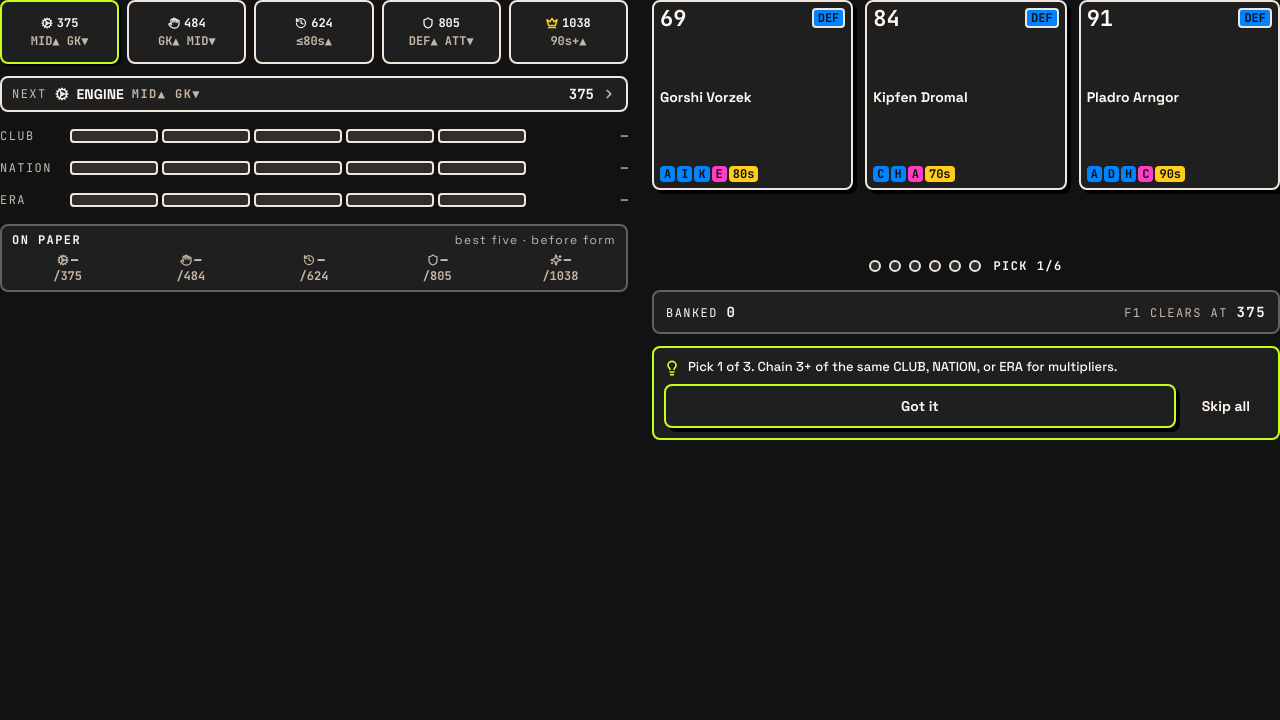
F1 — fixture effect derivation › the sheet badges the BOSS and the strip does not invent one
The image size is (1280, 720).
Click the button "1038 90s+▲".
click(568, 32)  # box [509,0,628,64]
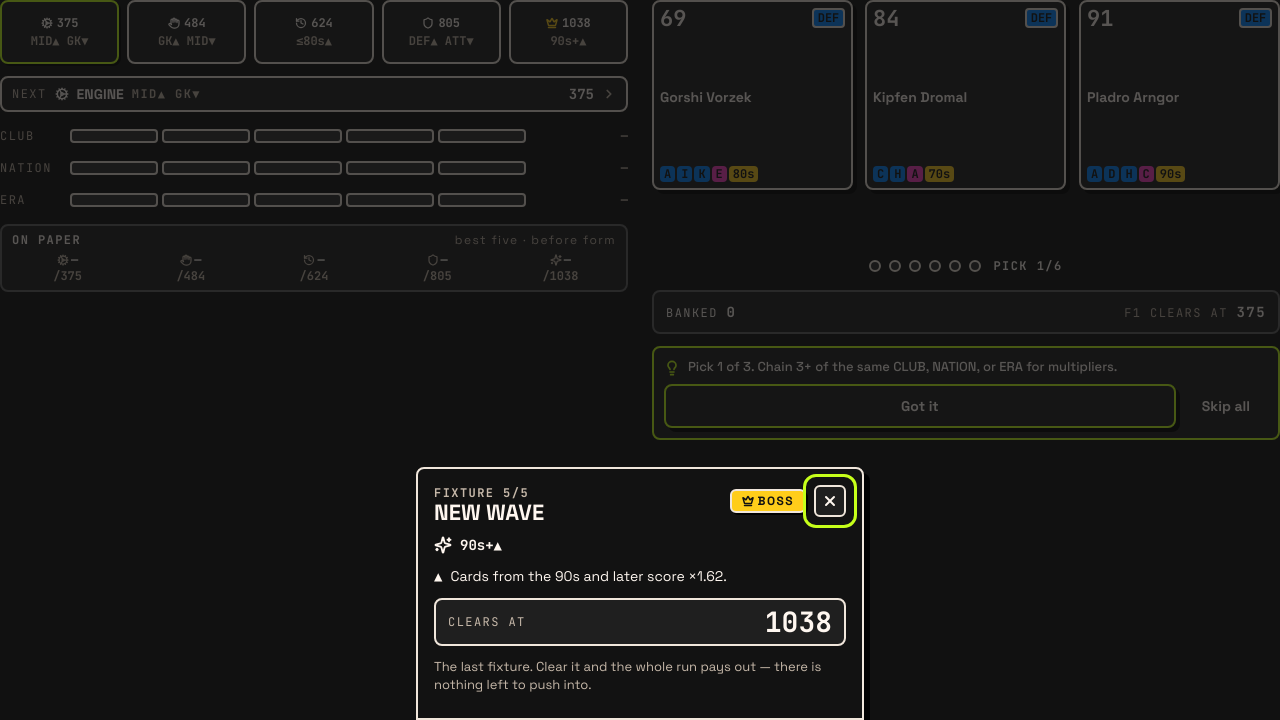
Expected: the element with test id "draw-fixture-sheet-boss" is shown, [730,489,806,513]
